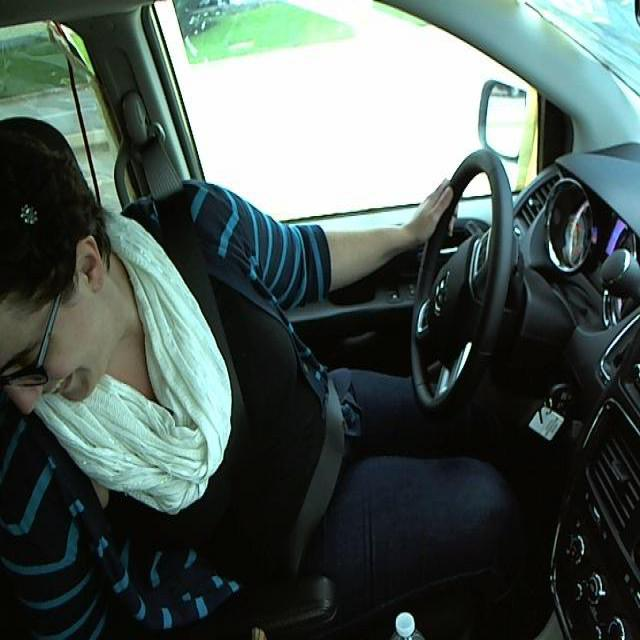seatbelt: (159, 217, 347, 556)
